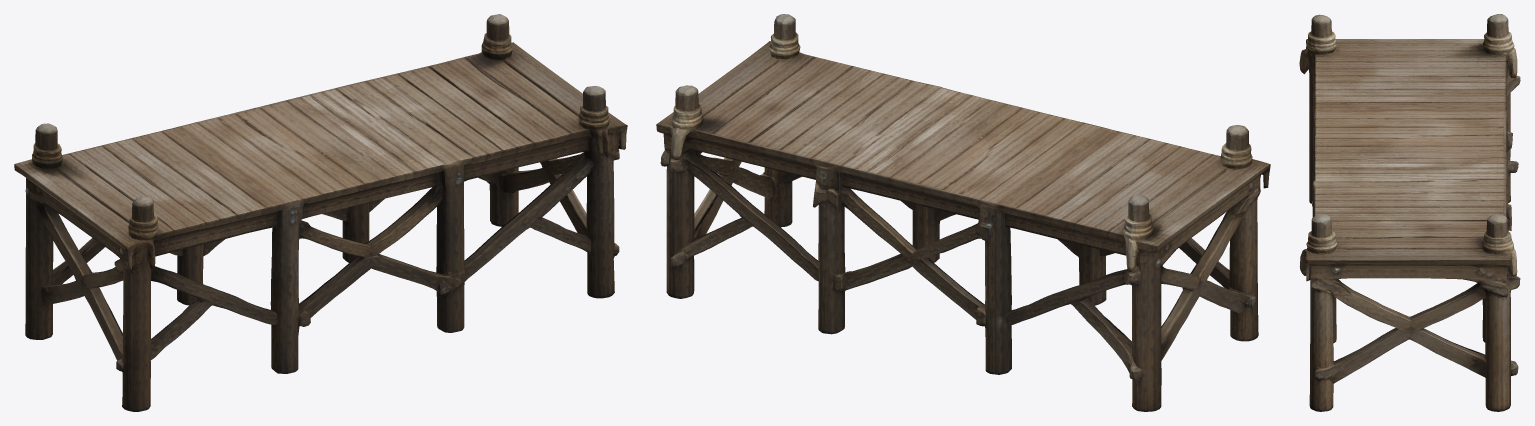
Rendered from wooden_pier.glb.
The picture shows the model from 3 angles, left to right: view 1: azimuth 30°, elevation 25°; view 2: azimuth 150°, elevation 25°; view 3: azimuth 270°, elevation 25°; orthographic projection. The views are drawn at different scales.
Parts seen in each view (by area): view 1: geometry_0; view 2: geometry_0; view 3: geometry_0.
Boxes of the visible parts, bbox=[...] form: geometry_0: bbox=[14, 14, 627, 411]; geometry_0: bbox=[656, 14, 1270, 411]; geometry_0: bbox=[1299, 14, 1520, 411].
Bounding box in the file's own units: 0.9784 × 0.388 × 0.4121.
1 material, 1 textured.
